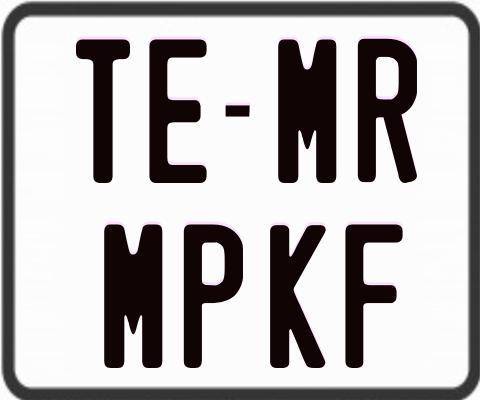E: (147, 39, 205, 185)
F: (344, 221, 405, 369)
K: (268, 225, 329, 368)
M: (103, 221, 166, 370), (277, 38, 335, 184)
P: (181, 221, 246, 369)
R: (355, 36, 416, 183)
T: (75, 36, 133, 185)
